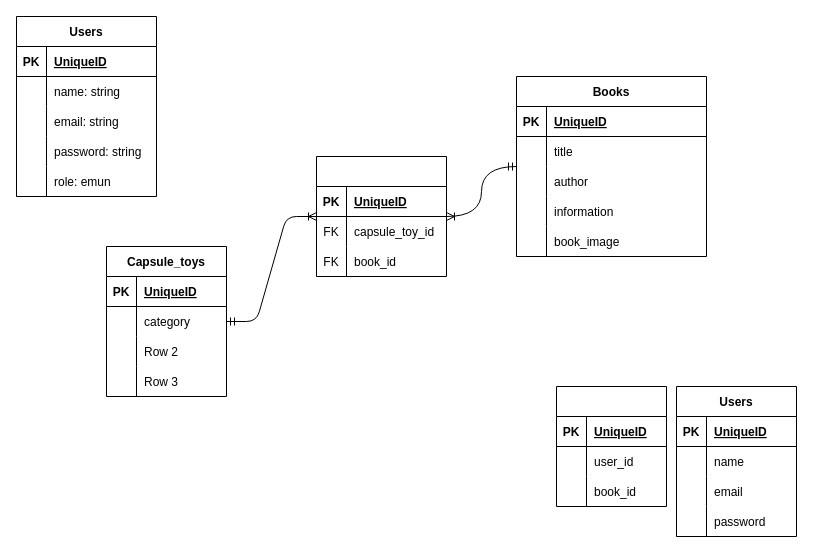
Image size: 813x553. Some labels were removed from this diagram. The shapes that lost their labels are listed below. From the top down, each one's box as (x1, y1, x2, y2) in pixels, then its label:
(316, 156, 446, 276): machine_books
(556, 386, 666, 506): Book_lists
